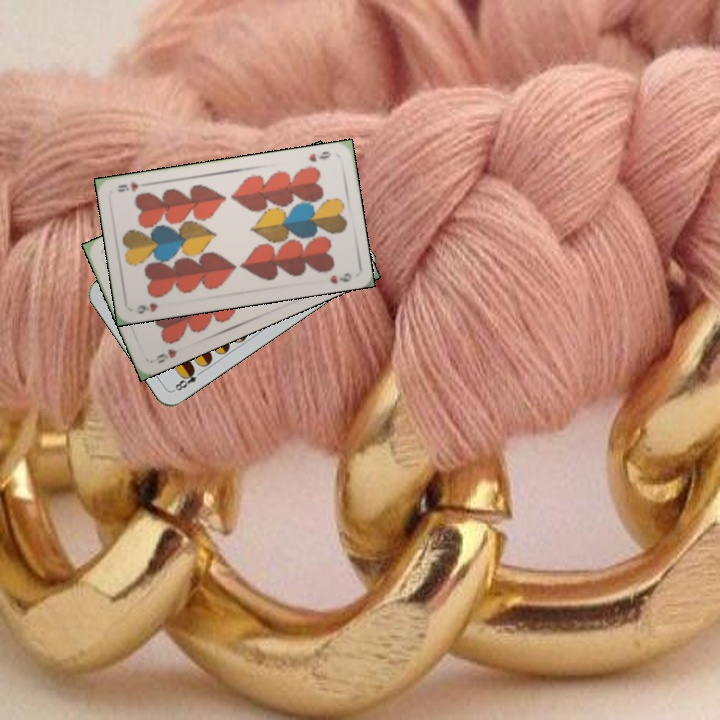E8: (169, 365, 206, 394)
H9: (152, 345, 179, 366), (305, 147, 333, 165), (133, 299, 160, 316)
